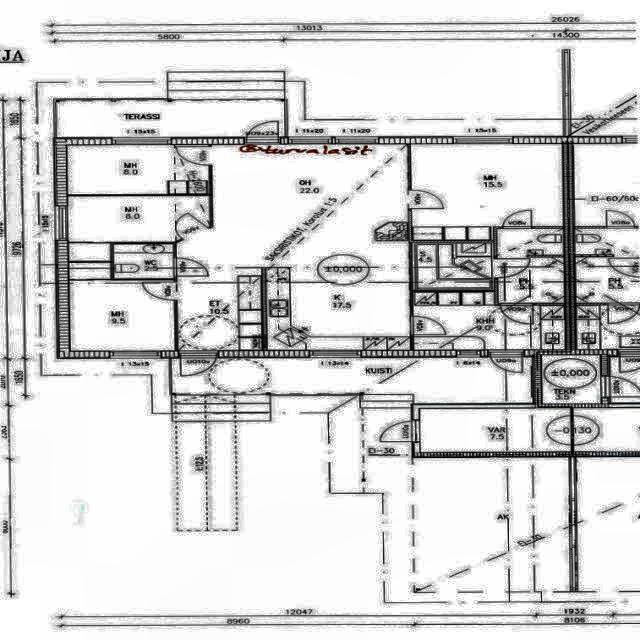room: (411, 144, 563, 240), (413, 292, 565, 349), (69, 280, 175, 351), (68, 145, 209, 194), (68, 196, 209, 242), (497, 228, 565, 304), (413, 242, 494, 290), (542, 355, 601, 403), (114, 244, 173, 278)
